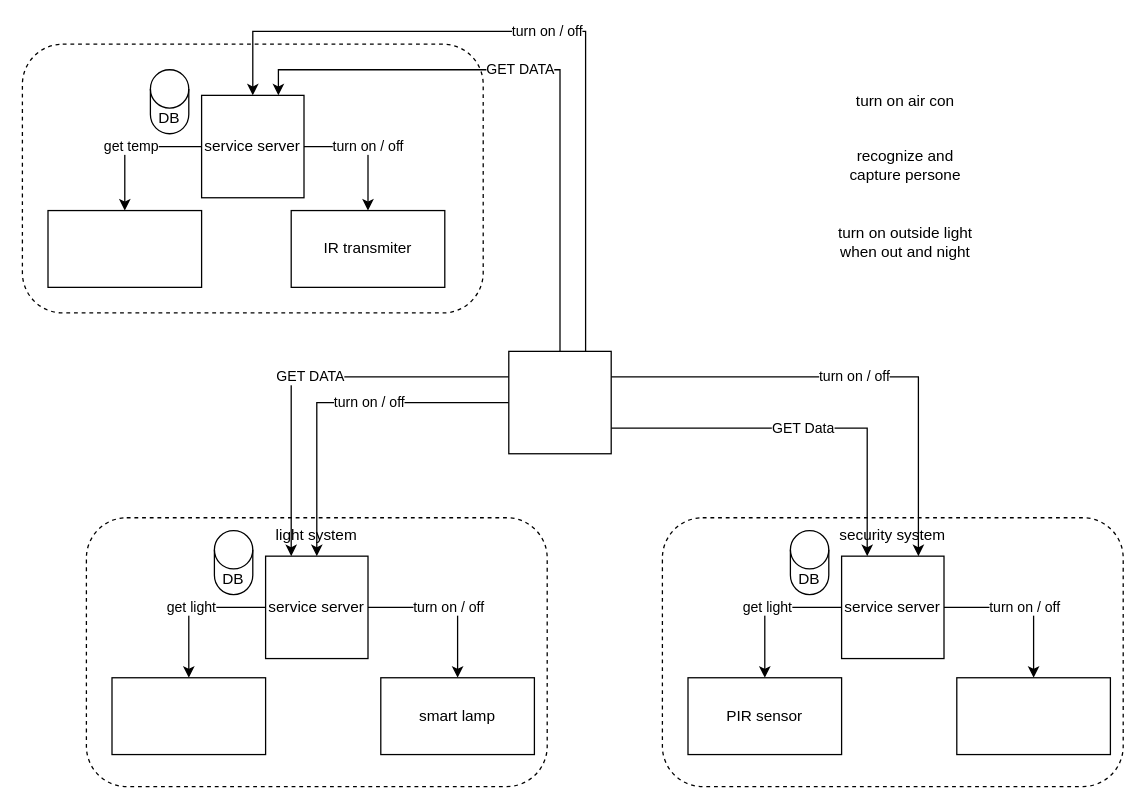
Some shapes in this 1146 by 809 pixel diagram are drawn without their labels. Here are the shapes that lost their labels. From the top down, the box of each, then its label:
(21, 43, 483, 313): AirCon
(47, 209, 202, 287): temp sensor
(508, 350, 611, 454): smart home server
(111, 676, 266, 755): light sensor
(956, 676, 1110, 755): camera
